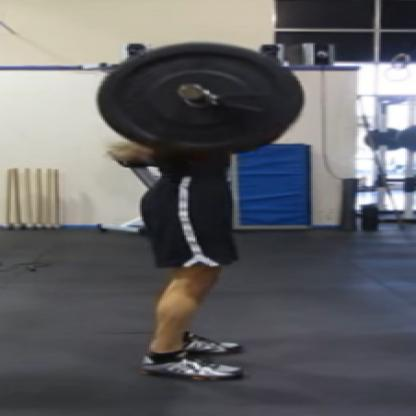Barbell: (88, 33, 313, 163)
